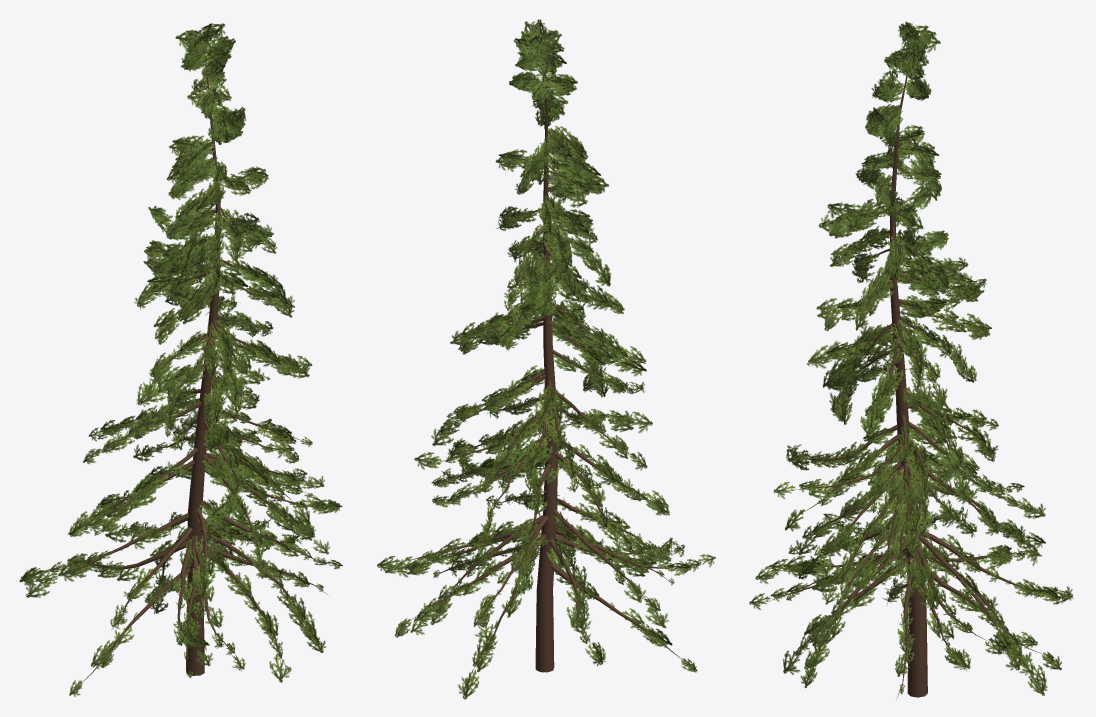
Rendered from pine-a.glb.
3 views of the same model, side by side, from view 1: azimuth 30°, elevation 25°; view 2: azimuth 150°, elevation 25°; view 3: azimuth 270°, elevation 25° (orthographic). The views are drawn at different scales.
Size of the model in its own units: 3.15 by 6.87 by 3.06.
Materials: 2 (1 with a texture image).
